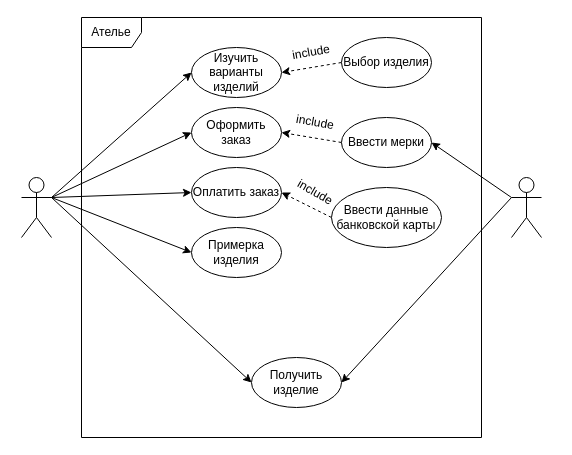
The diagram is 572 pixels wide and 455 high, and some of its shapes have lost their labels. The shapes that lost their labels are listed below. From the top down, each one's centre as x and y in pixels, then its label:
At [36,207]: "клиент".
At [526,207]: "Сотрудник".
